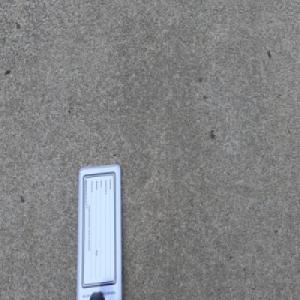LuggageTag: (75, 161, 124, 300)
